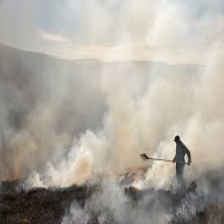smoke: (34, 92, 172, 201)
